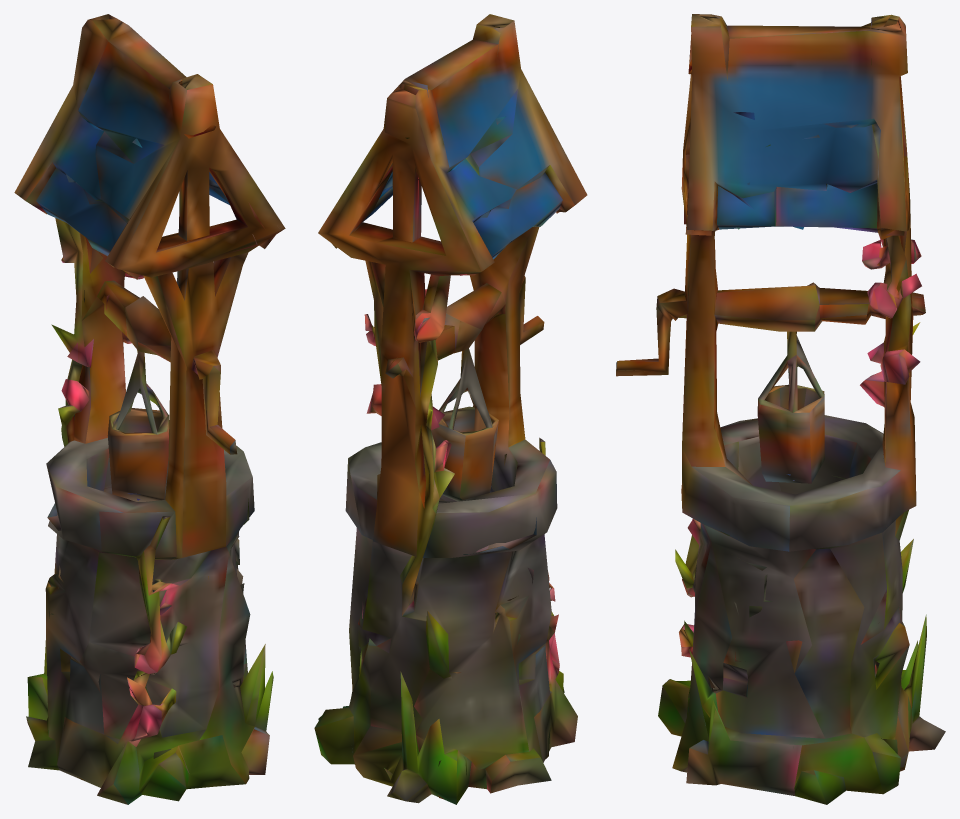
File: well_roof.glb
The picture shows the model from 3 angles, left to right: view 1: azimuth 30°, elevation 25°; view 2: azimuth 150°, elevation 25°; view 3: azimuth 270°, elevation 25°; orthographic projection. The views are drawn at different scales.
Bounding box in the file's own units: 0.3245 × 0.9954 × 0.4052.
1 material, 1 textured.
